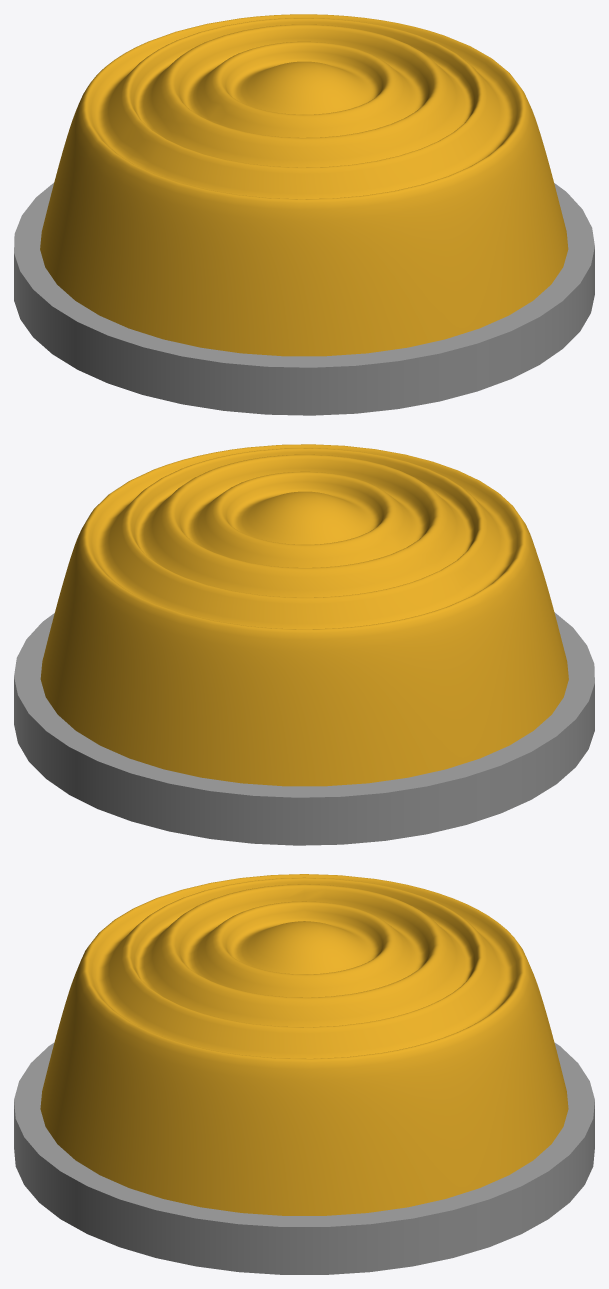
File: Indicator A Bare Yellow.obj
3 renders of one model, top to bottom at view 1: azimuth 30°, elevation 25°; view 2: azimuth 150°, elevation 25°; view 3: azimuth 270°, elevation 25°, orthographic.
Parts seen in each view (by area): view 1: Body1; view 2: Body1; view 3: Body1.
Part boxes in pixels (left/top/right/bottom): Body1: left=14, top=14, right=594, bottom=415; Body1: left=14, top=444, right=594, bottom=845; Body1: left=14, top=874, right=594, bottom=1274.
Bounding box in the file's own units: 2.2 × 0.9346 × 2.2.
